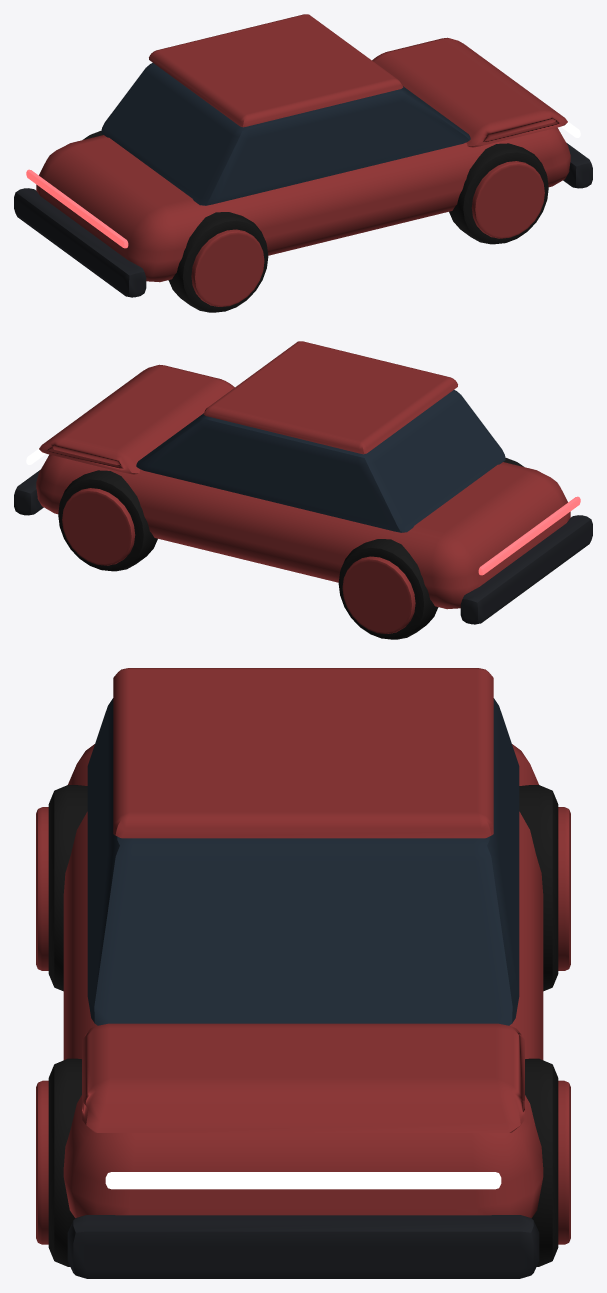
3 views of the same model, one above another, from view 1: azimuth 30°, elevation 25°; view 2: azimuth 150°, elevation 25°; view 3: azimuth 270°, elevation 25° (orthographic). The views are drawn at different scales.
Parts seen in each view (by area): view 1: part-paint, part-glass, part-trim, wheel--10--1-aero, wheel-+10--1-aero, wheel-+10--1-tyre, wheel--10--1-tyre, part-taillight; view 2: part-paint, part-glass, part-trim, wheel--10-1-aero, wheel-+10-1-aero, wheel-+10-1-tyre, wheel--10-1-tyre, part-taillight; view 3: part-paint, part-glass, part-trim, lightbar-front, wheel-+10-1-tyre, wheel-+10--1-tyre, wheel--10-1-tyre, wheel--10--1-tyre, wheel-+10-1-aero, wheel-+10--1-aero, wheel--10-1-aero, wheel--10--1-aero.
Boxes of the visible parts, x1,y1,x2,y2 form: part-paint: (36, 14, 570, 282); part-glass: (101, 63, 470, 205); part-trim: (14, 142, 592, 297); wheel--10--1-aero: (191, 229, 264, 306); wheel-+10--1-aero: (471, 161, 544, 238); wheel-+10--1-tyre: (449, 143, 548, 244); wheel--10--1-tyre: (168, 212, 268, 312); part-taillight: (26, 169, 128, 248); part-paint: (36, 341, 570, 609); part-glass: (136, 390, 505, 532); part-trim: (14, 469, 592, 624); wheel--10-1-aero: (342, 556, 415, 633); wheel-+10-1-aero: (62, 488, 135, 565); wheel-+10-1-tyre: (58, 470, 157, 571); wheel--10-1-tyre: (338, 539, 438, 639); part-taillight: (478, 496, 580, 575); part-paint: (63, 668, 543, 1217); part-glass: (87, 698, 519, 1025); part-trim: (67, 1215, 539, 1278); lightbar-front: (105, 1172, 501, 1189); wheel-+10-1-tyre: (525, 1058, 558, 1266); wheel-+10--1-tyre: (48, 1058, 81, 1266); wheel--10-1-tyre: (519, 785, 558, 991); wheel--10--1-tyre: (48, 785, 87, 991); wheel-+10-1-aero: (558, 1080, 570, 1244); wheel-+10--1-aero: (36, 1080, 48, 1244); wheel--10-1-aero: (558, 807, 570, 970); wheel--10--1-aero: (36, 807, 48, 970).
Size of the model in its own units: 34.2 by 12.3 by 16.9.
